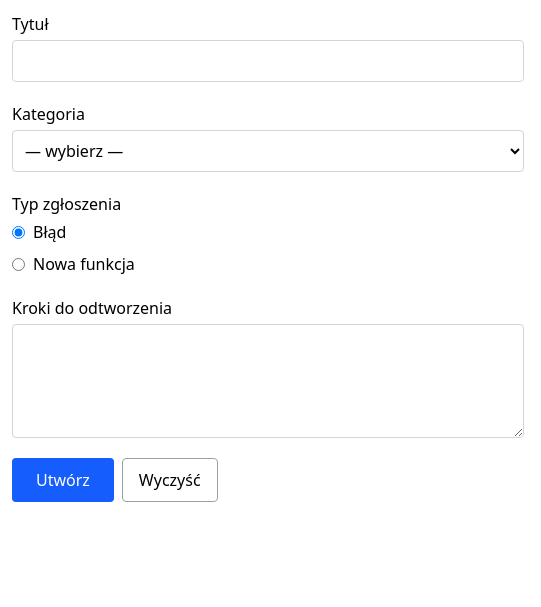
TicketForm — reset › clears validation errors on reset
Step 1. Click the button "Utwórz" → [63, 480], box [12,458,114,502]
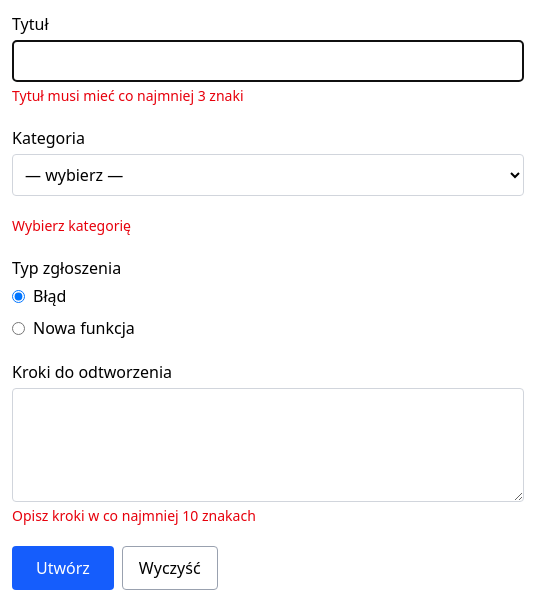
Now the text "Wybierz kategorię" is shown, box [12,216,131,235]
Step 2. Click the button "Wyczyść" → [170, 568], box [122,546,218,590]
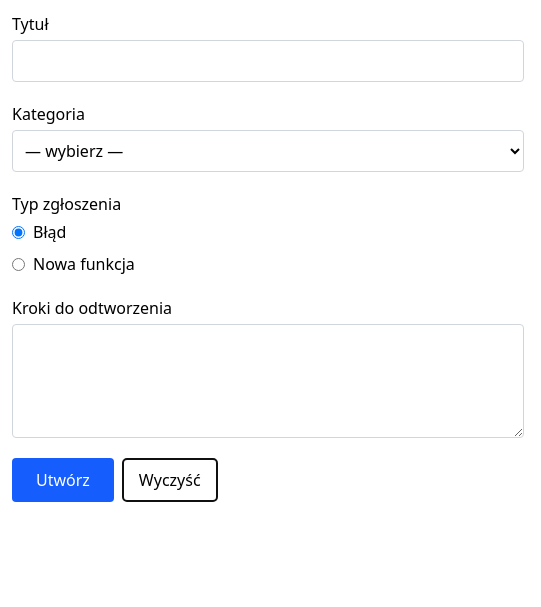
Now the text "Wybierz kategorię" is gone
